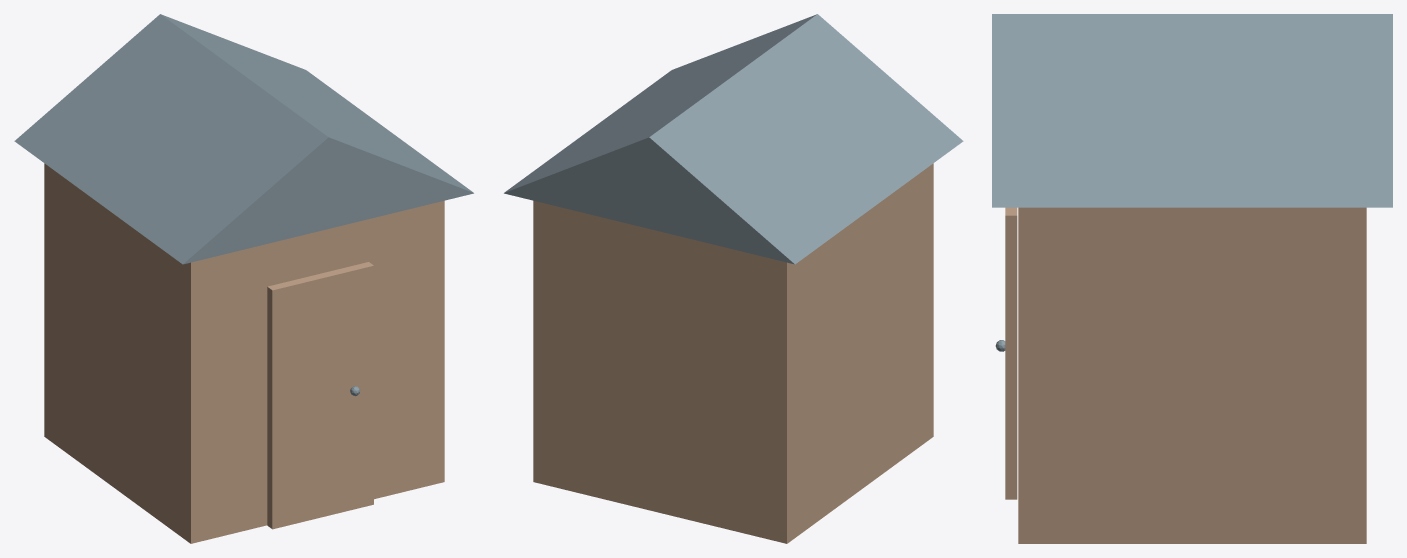
File: garden_shed.glb
The picture shows the model from 3 angles, left to right: view 1: azimuth 30°, elevation 25°; view 2: azimuth 150°, elevation 25°; view 3: azimuth 270°, elevation 25°; orthographic projection. The views are drawn at different scales.
Parts seen in each view (by area): view 1: garden_shed_000, garden_shed_001, garden_shed_002; view 2: garden_shed_000, garden_shed_001; view 3: garden_shed_000, garden_shed_001, garden_shed_002.
Boxes of the visible parts, <box> form: garden_shed_000: <box>44,163,444,543</box>; garden_shed_001: <box>14,14,473,264</box>; garden_shed_002: <box>267,262,373,529</box>; garden_shed_000: <box>533,163,933,543</box>; garden_shed_001: <box>504,14,963,264</box>; garden_shed_000: <box>1018,207,1366,543</box>; garden_shed_001: <box>992,14,1392,207</box>; garden_shed_002: <box>1005,207,1017,499</box>.
Size of the model in its own units: 2.3 by 2.89 by 2.3.
